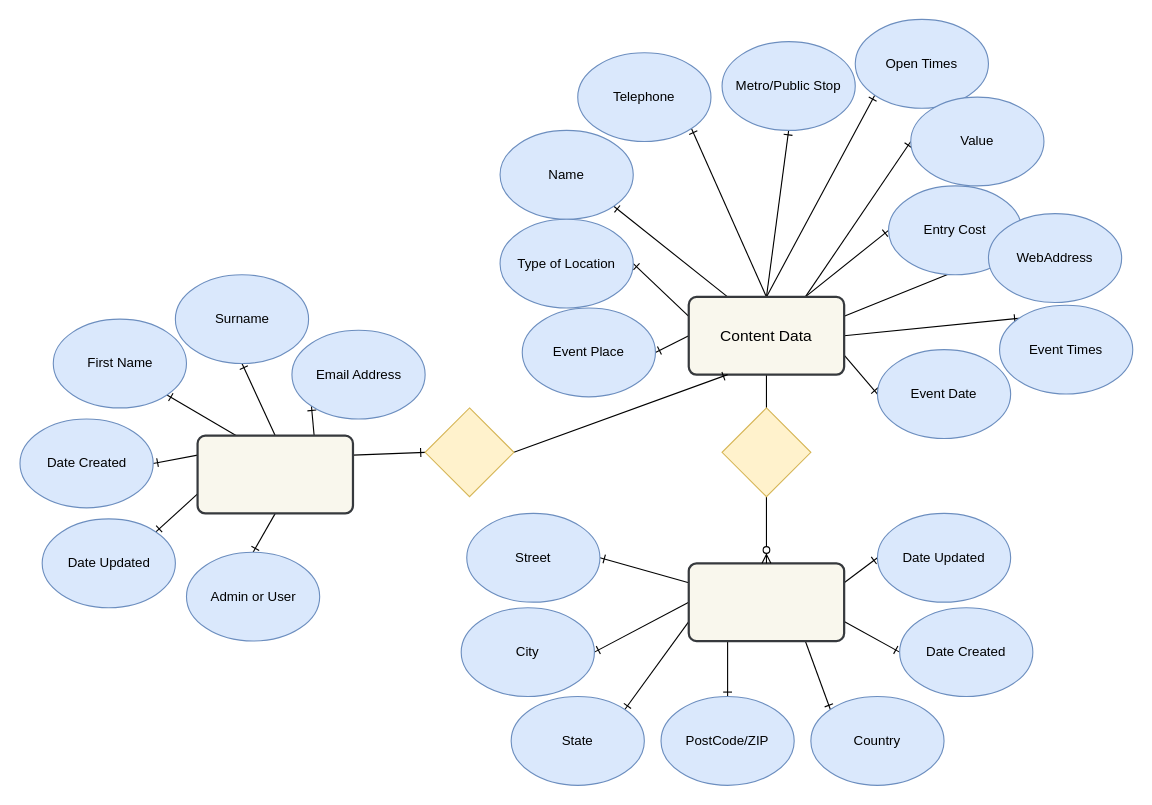
Some shapes in this 1152 by 805 pixel diagram are drawn without their labels. Here are the shapes that lost their labels. From the top down, the centre of each, then its label:
At point 469,452: "Views".
At point 766,452: "HAS".
At point 275,474: "Userdata".
At point 766,602: "Location Data".
